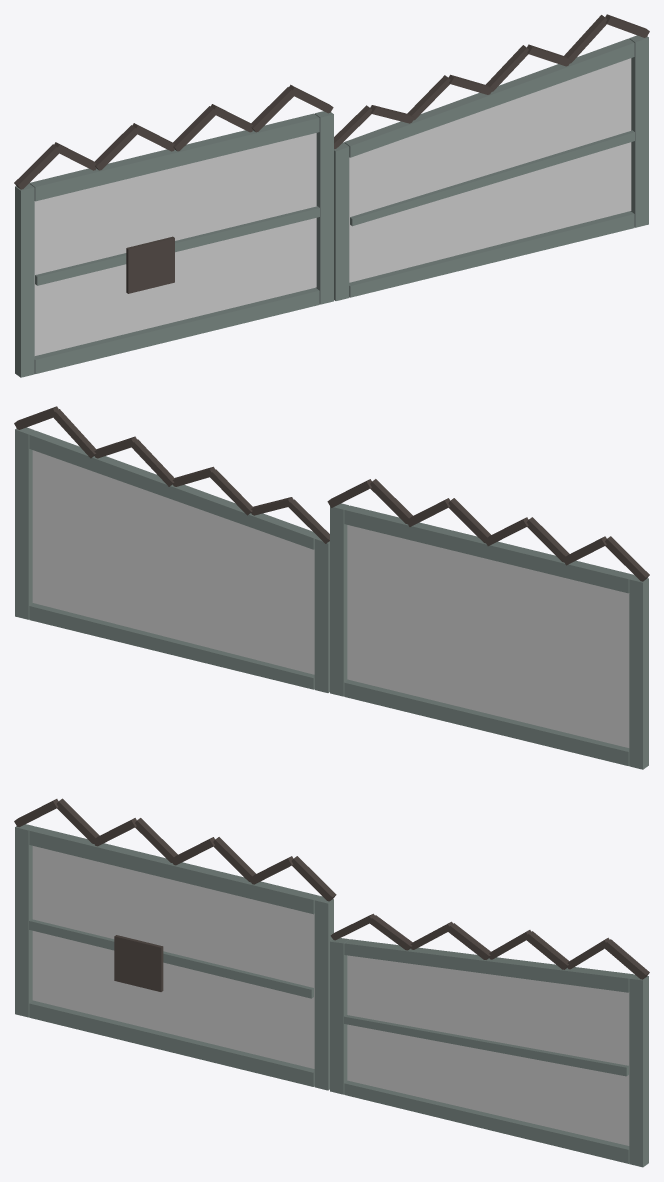
File: SM_PuertaViaDoble_v3_MallaEspino_e1_Danado_LOD1.fbx
3 views of the same model, one above another, from view 1: azimuth 30°, elevation 25°; view 2: azimuth 150°, elevation 25°; view 3: azimuth 330°, elevation 25° (orthographic).
Visible parts, largest first — view 1: Hoja_O, Hoja_E; view 2: Hoja_O, Hoja_E; view 3: Hoja_O, Hoja_E.
Boxes of the visible parts, x1,y1,x2,y2 form: Hoja_O: (14,84,333,377); Hoja_E: (334,14,649,300); Hoja_O: (327,479,649,769); Hoja_E: (14,406,329,692); Hoja_O: (14,798,336,1090); Hoja_E: (330,913,649,1167).
Size of what is drawn, in the model's own units: 7.43 by 2.49 by 0.21.
